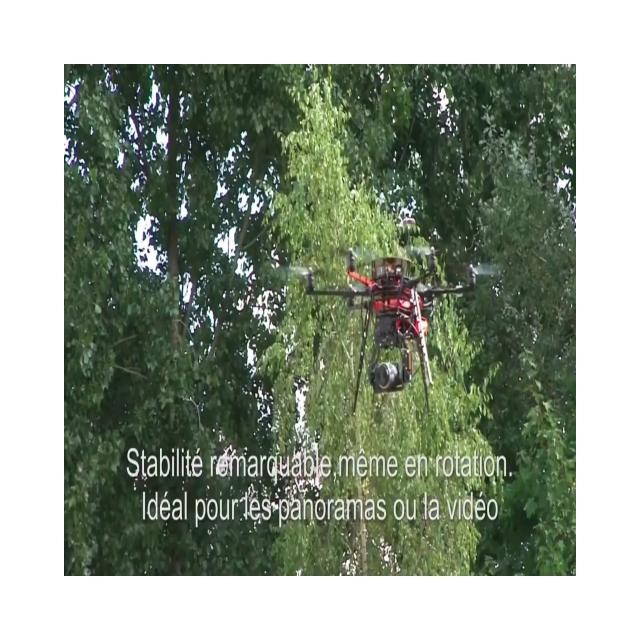drone: (270, 216, 502, 415)
